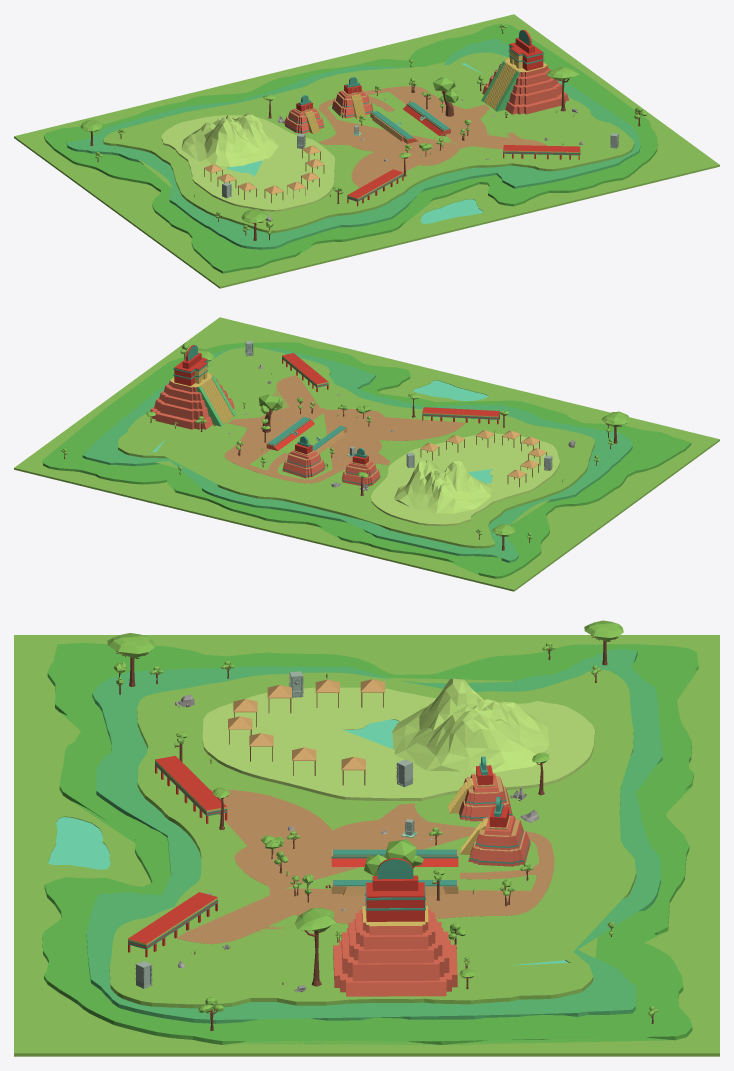
The model's file is D10_Park_1_2.fbx.
The picture shows the model from 3 angles, top to bottom: view 1: azimuth 30°, elevation 25°; view 2: azimuth 150°, elevation 25°; view 3: azimuth 270°, elevation 25°; orthographic projection. The views are drawn at different scales.
Parts seen in each view (by area): view 1: GP_Layer.036, Plane.1914, GP_Layer.018, GP_Layer.031, Plane.1918, GP_Layer.037, Plane.1915, Landscape.005, Plane.1916, Plane.1917, Plane.1912, Plane.1920 (+4 smaller); view 2: GP_Layer.036, Plane.1914, GP_Layer.018, GP_Layer.031, Plane.1918, GP_Layer.037, Plane.1915, Landscape.005, Plane.1916, Plane.1917, Plane.1912, Plane.1919 (+3 smaller); view 3: GP_Layer.036, Plane.1914, GP_Layer.018, GP_Layer.031, GP_Layer.037, Plane.1918, Plane.1915, Landscape.005, Plane.1916, Plane.1912, Plane.1917, Plane.1920 (+8 smaller).
Boxes of the visible parts, x1=… form: GP_Layer.036: x1=103, y1=52, x2=634, y2=232; Plane.1914: x1=14, y1=14, x2=719, y2=288; GP_Layer.018: x1=44, y1=24, x2=657, y2=273; GP_Layer.031: x1=66, y1=39, x2=640, y2=249; Plane.1918: x1=318, y1=86, x2=546, y2=187; GP_Layer.037: x1=161, y1=115, x2=334, y2=211; Plane.1915: x1=481, y1=30, x2=568, y2=114; Landscape.005: x1=181, y1=112, x2=278, y2=166; Plane.1916: x1=332, y1=77, x2=373, y2=118; Plane.1917: x1=284, y1=95, x2=324, y2=133; Plane.1912: x1=420, y1=199, x2=482, y2=223; Plane.1920: x1=503, y1=145, x2=580, y2=159; GP_Layer.036: x1=118, y1=347, x2=594, y2=548; Plane.1914: x1=14, y1=317, x2=719, y2=591; GP_Layer.018: x1=42, y1=342, x2=691, y2=578; GP_Layer.031: x1=82, y1=347, x2=632, y2=562; Plane.1918: x1=224, y1=375, x2=465, y2=483; GP_Layer.037: x1=371, y1=433, x2=559, y2=525; Plane.1915: x1=150, y1=345, x2=236, y2=429; Landscape.005: x1=394, y1=460, x2=491, y2=513; Plane.1916: x1=282, y1=436, x2=325, y2=478; Plane.1917: x1=342, y1=448, x2=380, y2=486; Plane.1912: x1=413, y1=380, x2=488, y2=401; Plane.1919: x1=422, y1=407, x2=499, y2=424; GP_Layer.036: x1=109, y1=669, x2=636, y2=1008; Plane.1914: x1=14, y1=635, x2=719, y2=1056; GP_Layer.018: x1=42, y1=643, x2=698, y2=1044; GP_Layer.031: x1=86, y1=649, x2=662, y2=1023; GP_Layer.037: x1=202, y1=687, x2=595, y2=800; Plane.1918: x1=176, y1=790, x2=554, y2=944; Plane.1915: x1=333, y1=858, x2=457, y2=996; Landscape.005: x1=392, y1=678, x2=548, y2=772; Plane.1916: x1=460, y1=796, x2=530, y2=866; Plane.1912: x1=48, y1=817, x2=110, y2=869; Plane.1917: x1=448, y1=756, x2=512, y2=821; Plane.1920: x1=128, y1=892, x2=217, y2=957.
Bounding box in the file's own units: 29250 × 4174 × 20850.
Materials: 13 (8 with a texture image).
